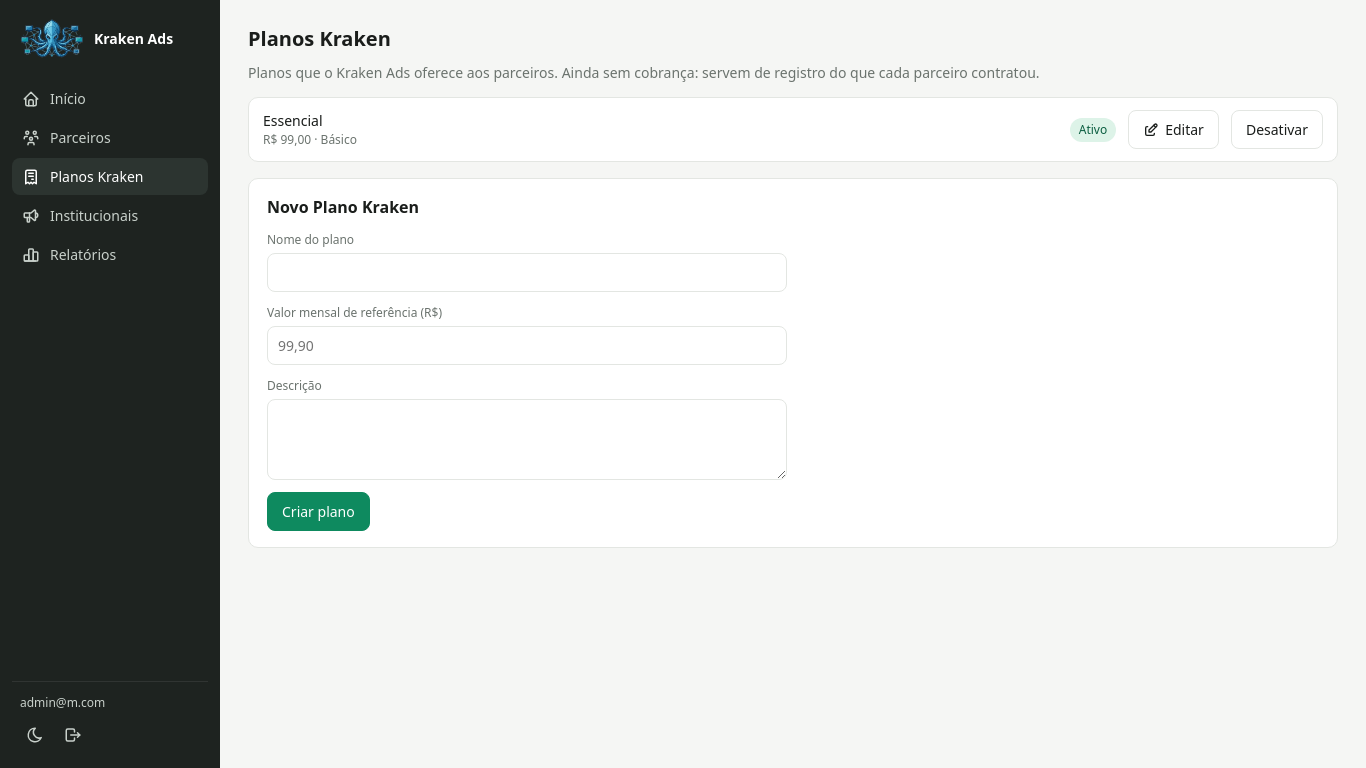
Test: Kraken plans screen › edits a Kraken plan
Click the button with aria-label "Editar Essencial" at point(1174, 130), box [1128,110,1219,149]
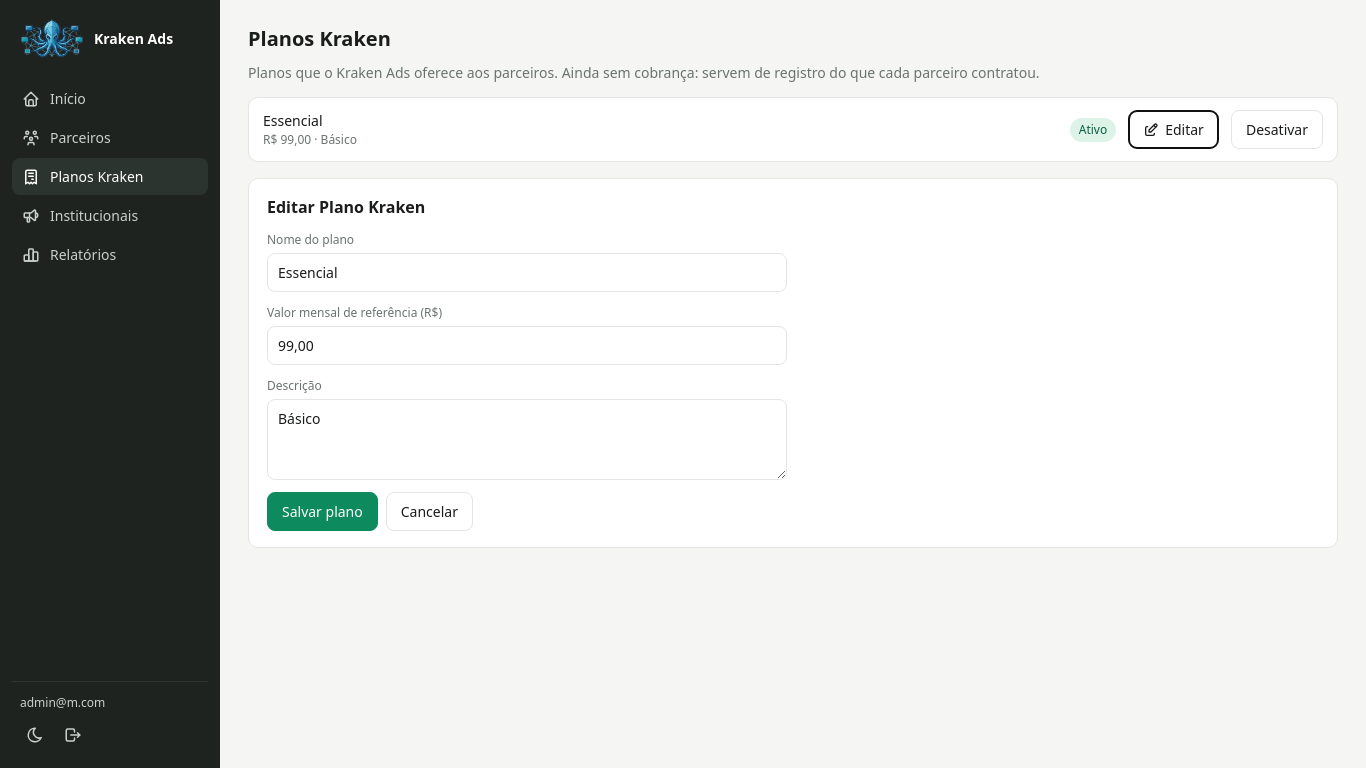
Expected: the field labelled "Valor mensal de referência (R$)" holds "99,00"
Replace the text in the field labelled "Valor mensal de referência (R$)" with "129,90" at point(527, 346), box [267,326,787,365]
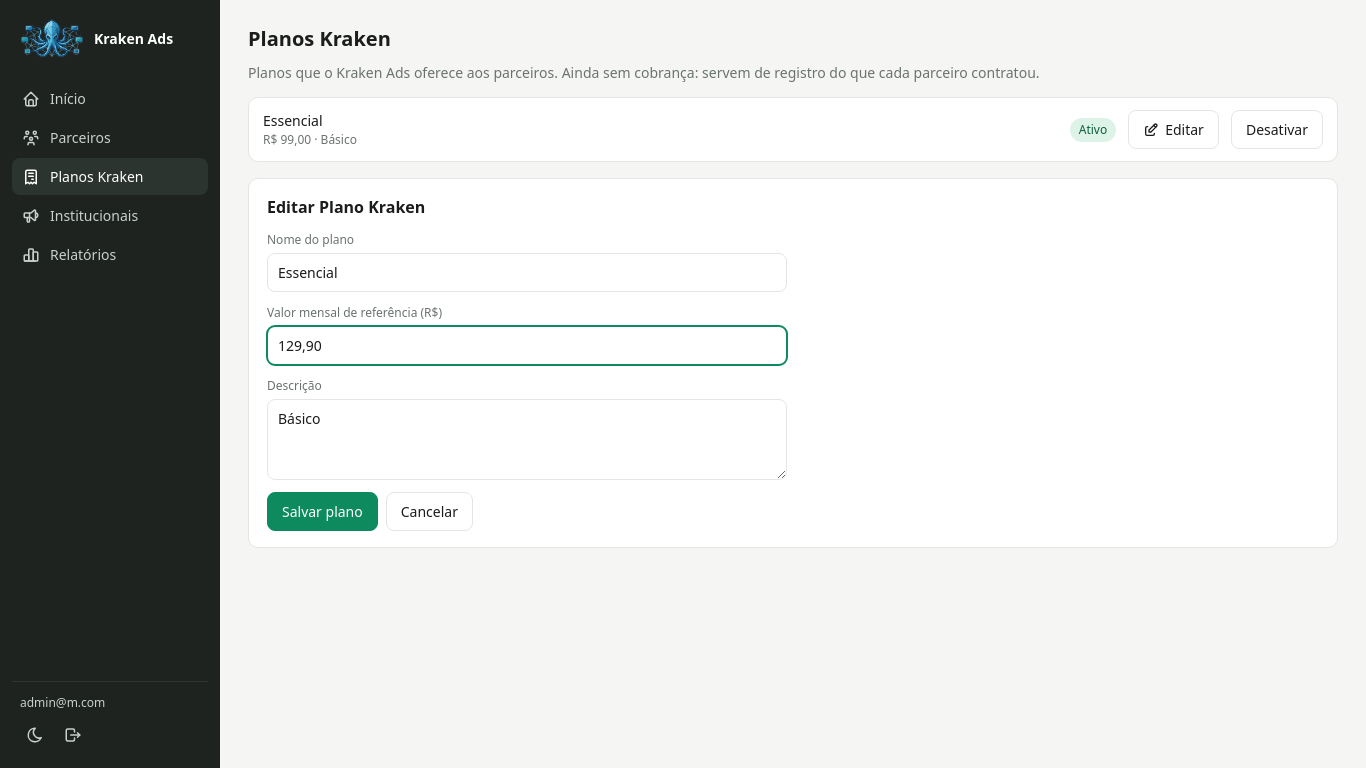
Click the button "Salvar plano" at point(322, 512), box [267,492,378,531]
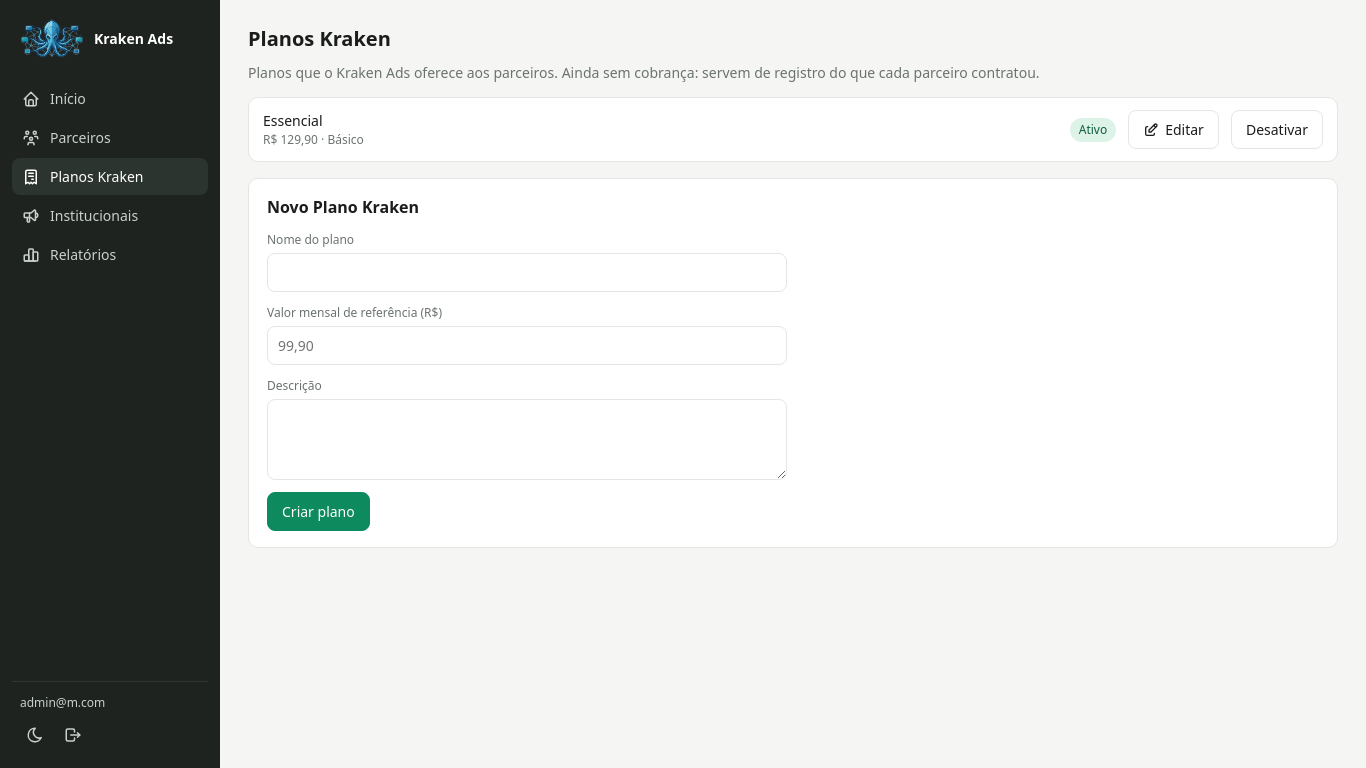
Expected: the text "R$ 129,90 · Básico" is shown, [263,131,364,148]
